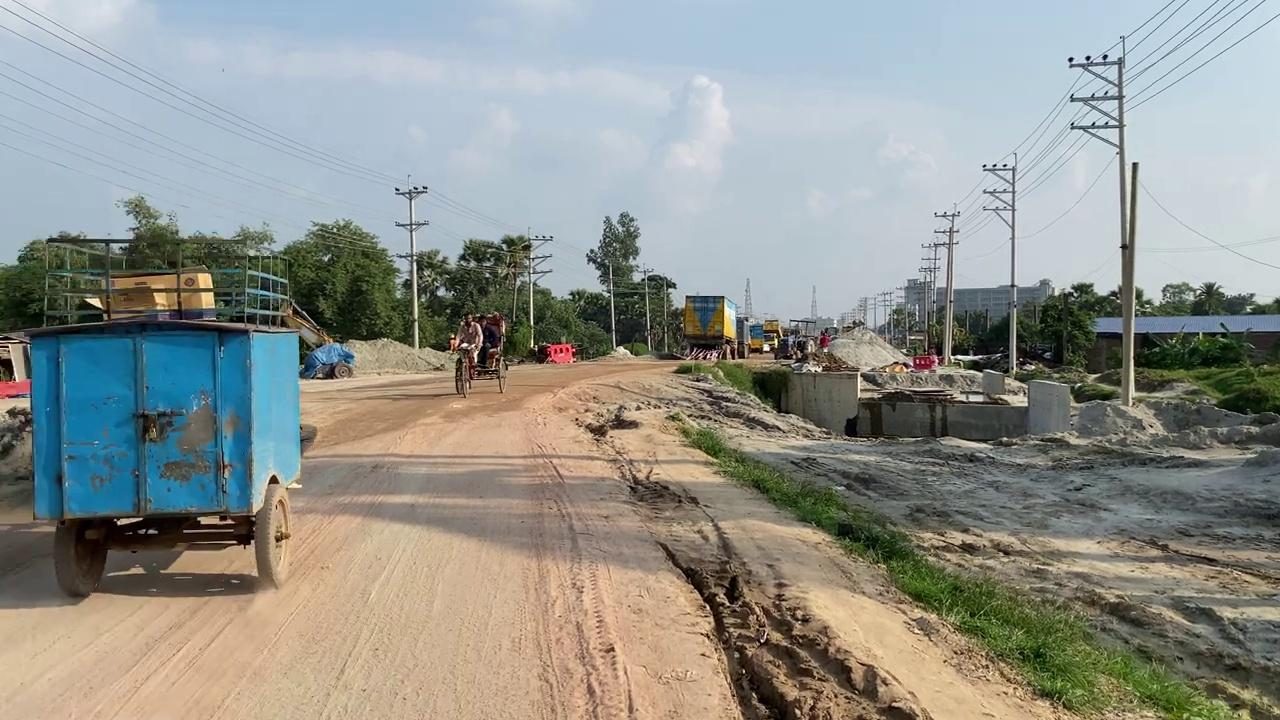Fence: (42, 236, 291, 327)
Pole: (1066, 34, 1136, 405)
Railroad-crossing: (444, 313, 514, 401)
Rickshaw: (552, 376, 1076, 718)
Traffic-sign: (585, 209, 641, 350)
Tree: (20, 314, 303, 596), (278, 300, 355, 379), (279, 300, 334, 350), (762, 318, 782, 351), (748, 323, 765, 353)
